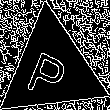P_NE: (27, 39, 76, 100)
